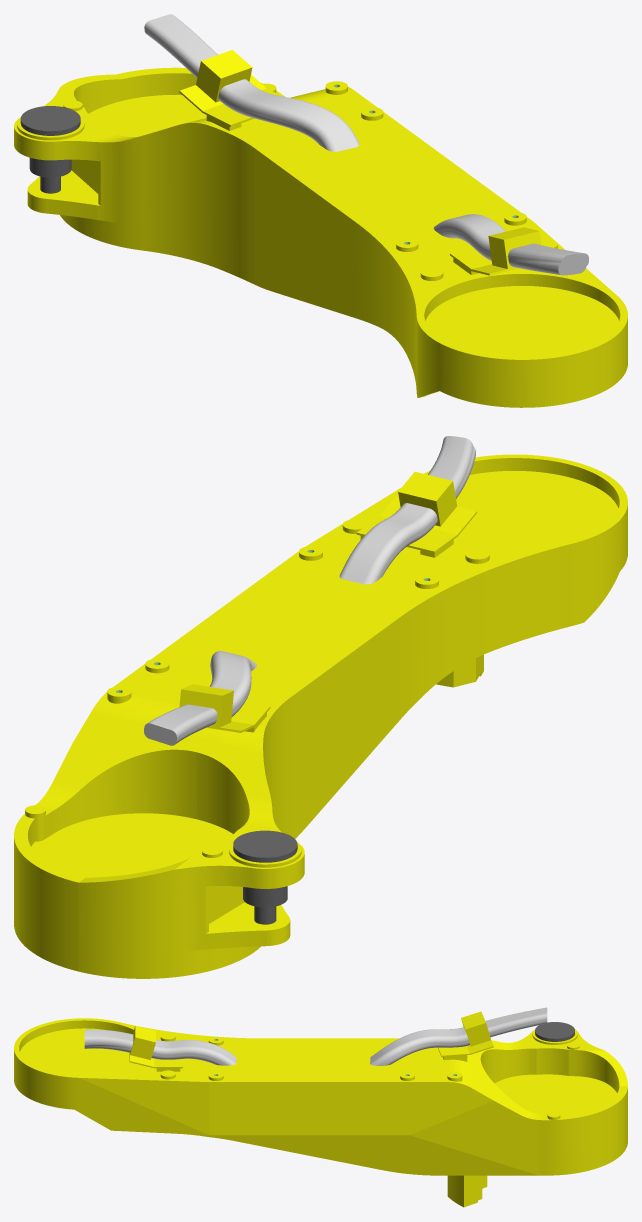
The picture shows the model from 3 angles, top to bottom: view 1: azimuth 30°, elevation 25°; view 2: azimuth 150°, elevation 25°; view 3: azimuth 270°, elevation 25°; orthographic projection. The views are drawn at different scales.
Parts seen in each view (by area): view 1: Mesh_0; view 2: Mesh_0; view 3: Mesh_0.
Part boxes in pixels (x1,y1,x2,y2): Mesh_0: (14, 14, 627, 407); Mesh_0: (14, 436, 627, 978); Mesh_0: (14, 1007, 627, 1207).
Bounding box in the file's own units: 0.4682 × 0.4165 × 1.43.
